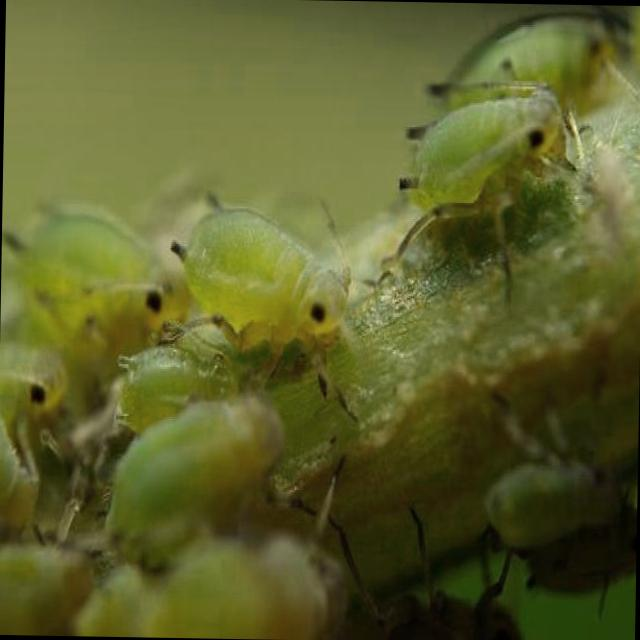aphid: (358, 70, 592, 274), (153, 170, 373, 364), (102, 398, 286, 558)
